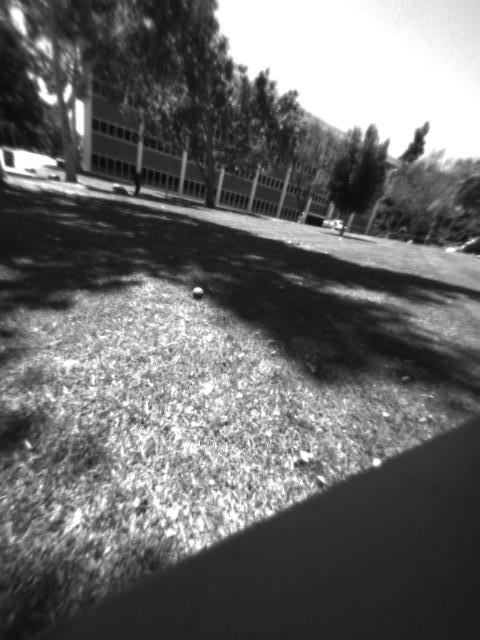dogtoy: (184, 280, 213, 306)
